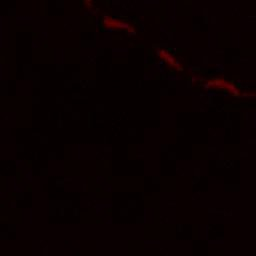debris: (200, 75, 245, 93), (100, 15, 135, 32), (159, 50, 179, 67)
